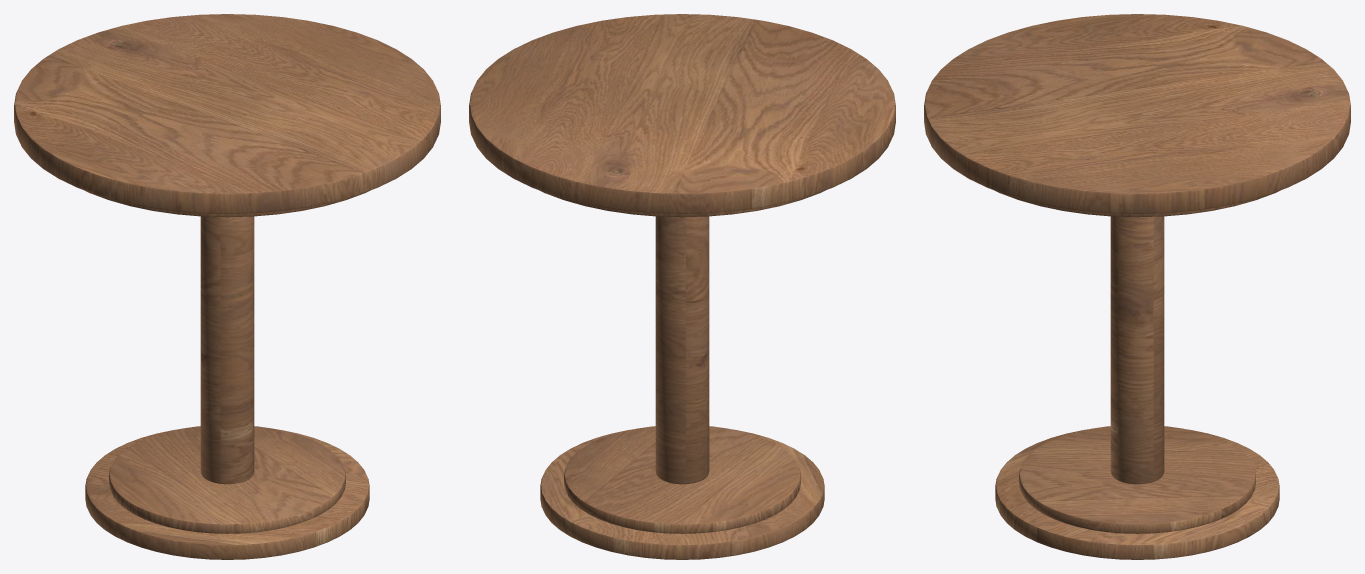
The model's file is table.glb.
3 views of the same model, side by side, from view 1: azimuth 30°, elevation 25°; view 2: azimuth 150°, elevation 25°; view 3: azimuth 270°, elevation 25° (orthographic).
Visible parts, largest first — view 1: Table; view 2: Table; view 3: Table.
Boxes of the visible parts, x1,y1,x2,y2 form: Table: (14,14,440,559); Table: (469,14,895,559); Table: (924,14,1350,559).
Bounding box in the file's own units: 0.72 × 0.74 × 0.72.
Materials: 1 (1 with a texture image).
